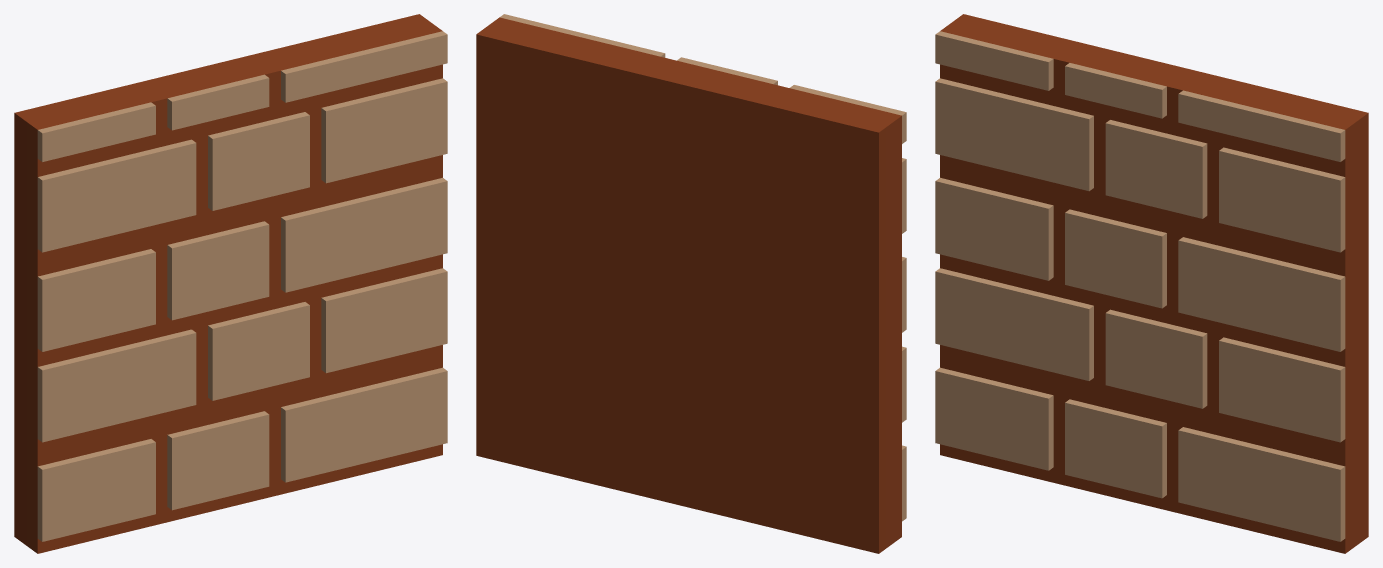
The model's file is BrickV1HalfWallSmall.fbx.
The picture shows the model from 3 angles, left to right: view 1: azimuth 30°, elevation 25°; view 2: azimuth 150°, elevation 25°; view 3: azimuth 330°, elevation 25°; orthographic projection.
Parts seen in each view (by area): view 1: BrickV1HalfWallSmall; view 2: BrickV1HalfWallSmall; view 3: BrickV1HalfWallSmall.
Part boxes in pixels (left/top/right/bottom): BrickV1HalfWallSmall: left=14, top=14, right=447, bottom=553; BrickV1HalfWallSmall: left=476, top=14, right=906, bottom=553; BrickV1HalfWallSmall: left=935, top=14, right=1368, bottom=553.
Size of the model in its own units: 100 by 100 by 12.
